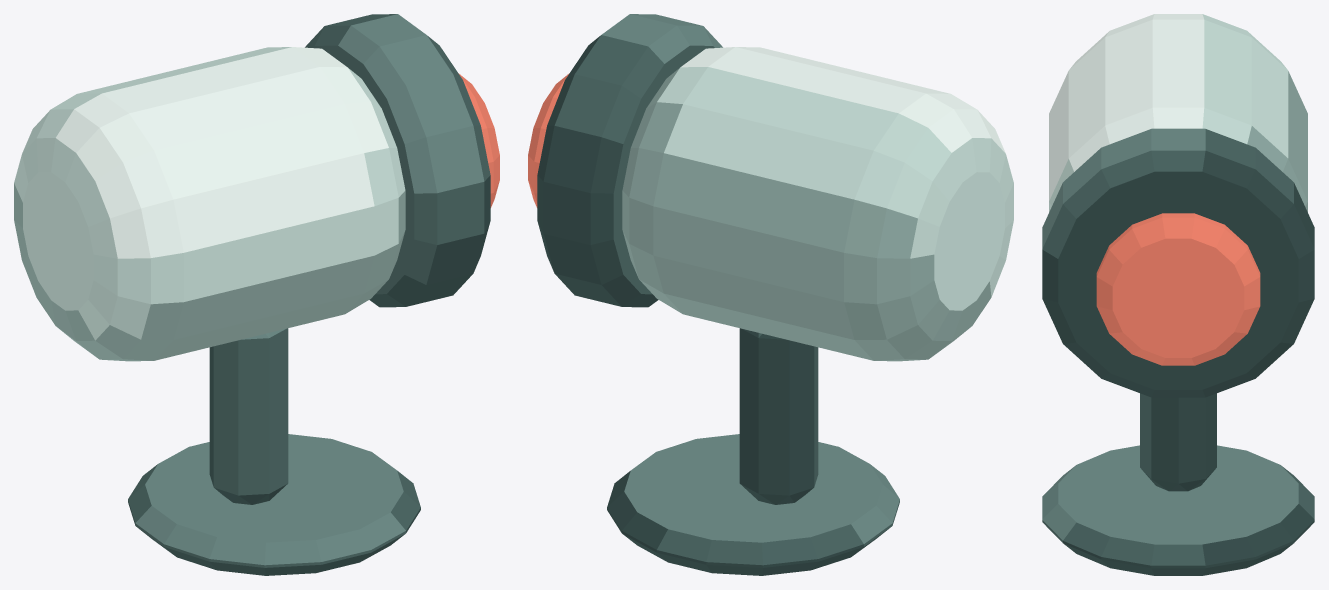
The model's file is Laser_Right.gltf.
3 renders of one model, left to right at view 1: azimuth 30°, elevation 25°; view 2: azimuth 150°, elevation 25°; view 3: azimuth 270°, elevation 25°, orthographic. The views are drawn at different scales.
Parts seen in each view (by area): view 1: Laser_Right_baked; view 2: Laser_Right_baked; view 3: Laser_Right_baked.
Boxes of the visible parts, x1,y1,x2,y2 form: Laser_Right_baked: (14, 14, 499, 575); Laser_Right_baked: (528, 14, 1013, 575); Laser_Right_baked: (1042, 14, 1314, 575).
Bounding box in the file's own units: 0.64 × 0.6962 × 0.3923.
